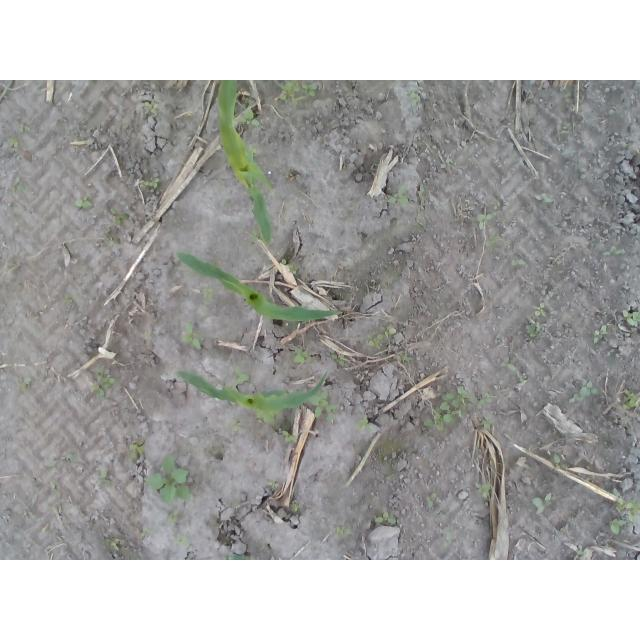Maize: (173, 250, 344, 322), (215, 80, 274, 245), (174, 369, 328, 412)
Weeds: (422, 383, 475, 434), (144, 453, 193, 503), (88, 367, 120, 401), (279, 80, 319, 105), (613, 489, 640, 524), (310, 392, 336, 425), (570, 378, 602, 402), (179, 322, 203, 351), (386, 182, 411, 206), (240, 106, 265, 128), (351, 415, 378, 434), (127, 438, 145, 466), (273, 421, 295, 443), (104, 535, 129, 553), (532, 493, 553, 514), (95, 464, 113, 488), (374, 511, 400, 527), (254, 409, 278, 425), (600, 242, 625, 257), (623, 387, 640, 409), (111, 207, 130, 226), (293, 346, 314, 363), (551, 453, 570, 471), (476, 213, 496, 230), (608, 518, 628, 535), (368, 334, 385, 353), (72, 194, 93, 209), (234, 367, 251, 385), (622, 310, 640, 327), (473, 481, 491, 498), (7, 136, 25, 153), (592, 325, 608, 344), (331, 350, 349, 366), (16, 375, 32, 393), (536, 193, 557, 206), (140, 178, 161, 191), (527, 323, 545, 338), (605, 80, 624, 94), (512, 368, 528, 384), (479, 416, 494, 433), (477, 392, 494, 407), (335, 525, 353, 539), (144, 99, 161, 113), (201, 288, 215, 305), (64, 450, 81, 464), (408, 90, 421, 106), (168, 509, 181, 524), (139, 527, 153, 539), (533, 303, 544, 318), (174, 535, 190, 545), (250, 228, 262, 241), (384, 324, 396, 337), (224, 554, 250, 560), (559, 125, 570, 139), (485, 235, 496, 249), (16, 176, 25, 193), (288, 262, 300, 274), (512, 260, 528, 269), (500, 356, 512, 368), (291, 500, 301, 513), (230, 420, 240, 433), (576, 546, 587, 557), (401, 354, 413, 364), (417, 224, 432, 232), (63, 292, 73, 304), (447, 528, 454, 545), (268, 479, 279, 489), (591, 239, 601, 249), (18, 125, 30, 133), (427, 498, 434, 509), (562, 91, 574, 97), (280, 256, 288, 264), (624, 144, 631, 151), (271, 107, 279, 113)
